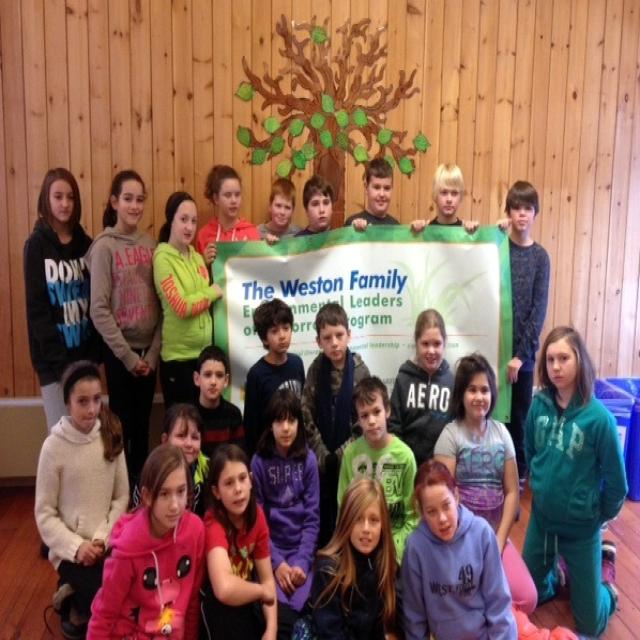body: (517, 319, 630, 637), (430, 345, 542, 619), (80, 166, 166, 508), (32, 356, 135, 638), (81, 437, 208, 639), (20, 162, 100, 442), (400, 458, 520, 640), (492, 174, 554, 497), (245, 382, 322, 639), (151, 186, 225, 429), (335, 374, 423, 577), (200, 440, 281, 638), (309, 476, 399, 640), (300, 302, 372, 506), (386, 307, 457, 469), (242, 297, 306, 473), (130, 401, 215, 524), (194, 161, 262, 269), (187, 343, 244, 459), (411, 158, 483, 236), (344, 154, 404, 233), (254, 175, 304, 248), (292, 174, 337, 238)
